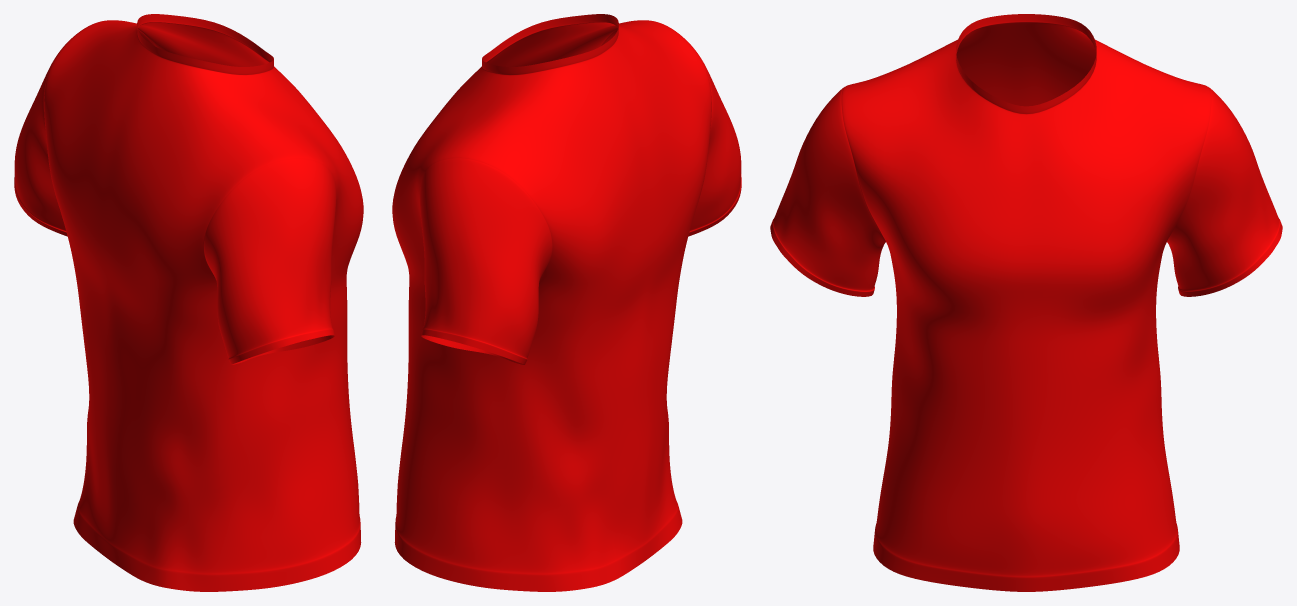
File: tshirt-red.glb
The picture shows the model from 3 angles, left to right: view 1: azimuth 30°, elevation 25°; view 2: azimuth 150°, elevation 25°; view 3: azimuth 270°, elevation 25°; orthographic projection.
Parts seen in each view (by area): view 1: Plane; view 2: Plane; view 3: Plane.
Part boxes in pixels (x1,y1,x2,y2): Plane: [14, 14, 363, 591]; Plane: [392, 14, 741, 591]; Plane: [770, 14, 1282, 591].
Size of the model in its own units: 0.5247 by 1.09 by 1.01.
